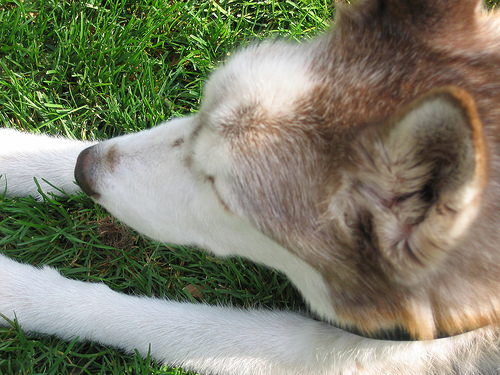dog: (0, 0, 499, 372)
